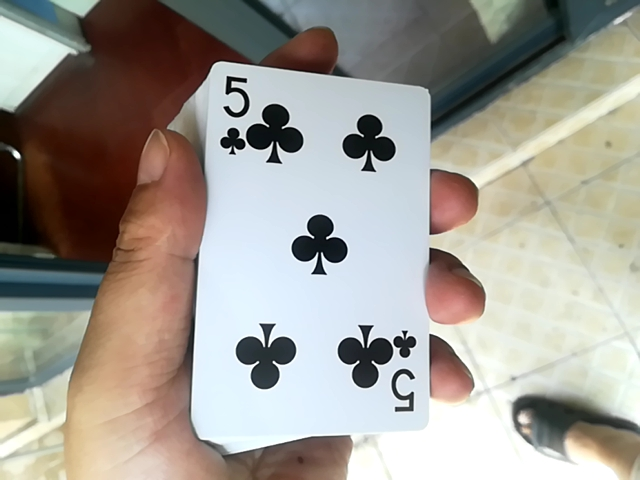mh 5: (194, 50, 435, 458)
